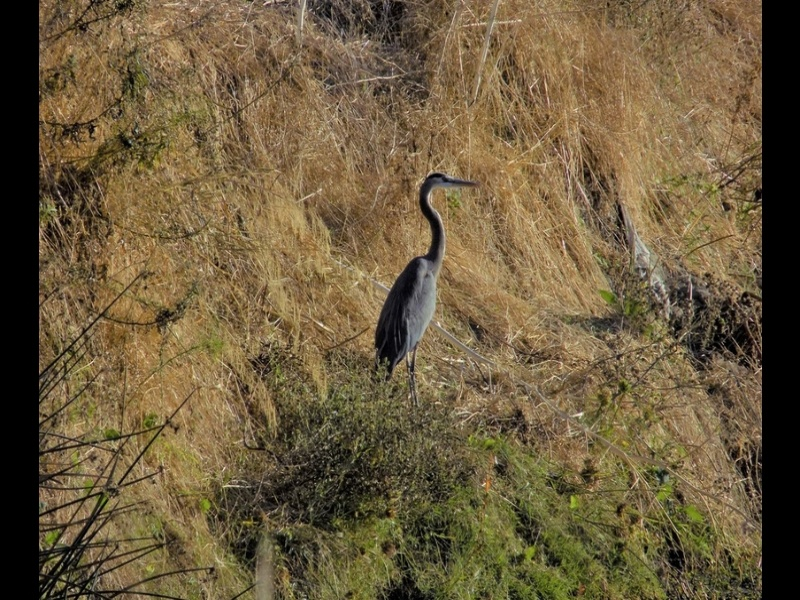heron: (371, 170, 481, 406)
